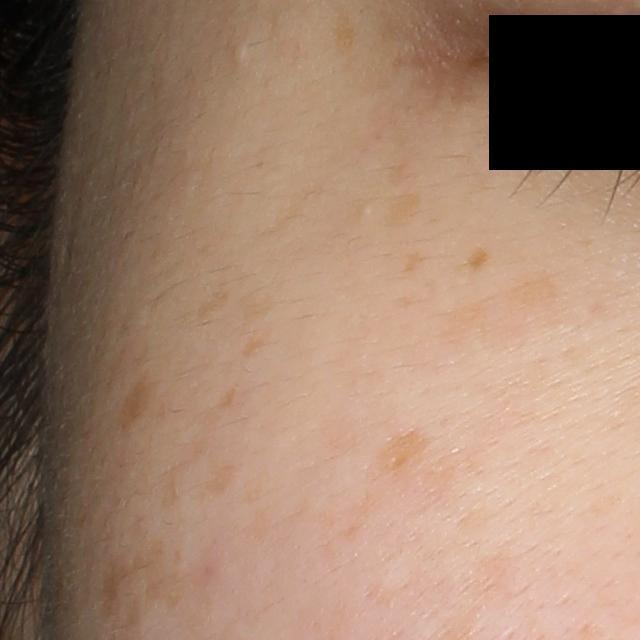comedo: (228, 38, 248, 63)
melasma: (444, 272, 578, 366), (359, 422, 432, 502), (100, 368, 156, 428), (380, 187, 420, 233), (202, 460, 243, 502), (325, 7, 359, 57), (196, 288, 234, 327), (237, 332, 277, 362), (210, 379, 241, 415), (459, 242, 492, 275)
